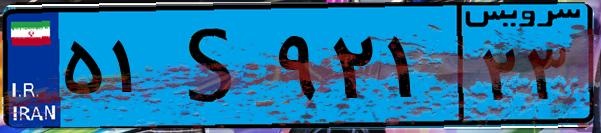1: (385, 28, 445, 110), (110, 28, 158, 98)
2: (330, 28, 385, 110), (475, 38, 525, 113)
3: (525, 38, 570, 115)
5: (57, 26, 110, 100)
9: (270, 28, 330, 110)
S: (158, 12, 270, 120)
